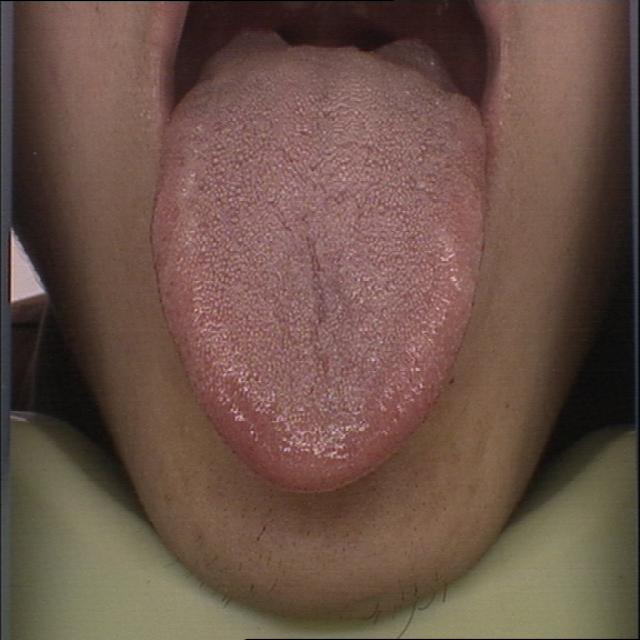tongue: (149, 44, 491, 502)
